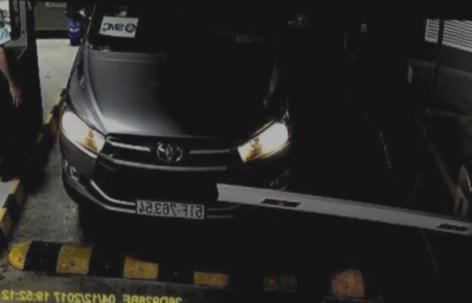License_Plate: (129, 190, 208, 223)
